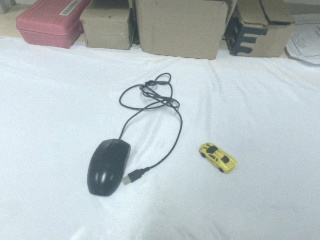box: (128, 1, 238, 60), (225, 1, 296, 58), (79, 1, 135, 50)
mouse: (87, 139, 131, 197)
toy_car: (200, 141, 237, 172)
